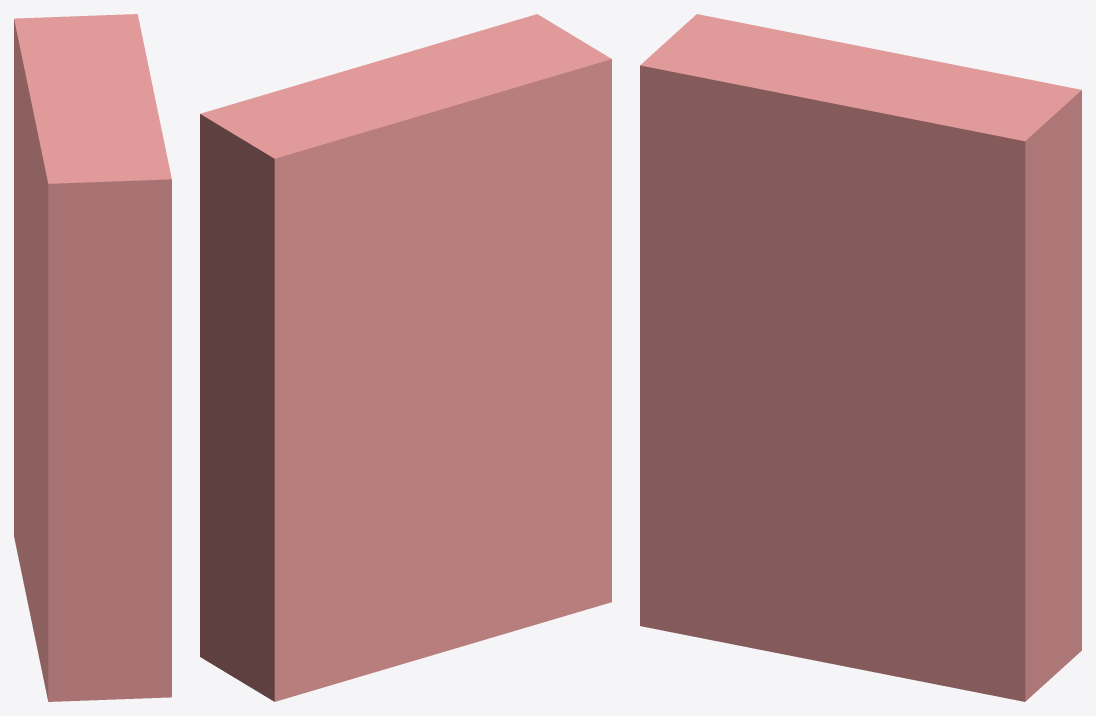
The model's file is KPMG_Interior_retail_door.glb.
The picture shows the model from 3 angles, left to right: view 1: azimuth 30°, elevation 25°; view 2: azimuth 150°, elevation 25°; view 3: azimuth 270°, elevation 25°; orthographic projection. The views are drawn at different scales.
Visible parts, largest first — view 1: retail_door_collider_002; view 2: retail_door_collider_002; view 3: retail_door_collider_002.
Boxes of the visible parts, bbox=[...] form: retail_door_collider_002: bbox=[14, 14, 171, 701]; retail_door_collider_002: bbox=[200, 14, 611, 701]; retail_door_collider_002: bbox=[640, 14, 1081, 701].
Bounding box in the file's own units: 2.24 × 4.61 × 3.29.
